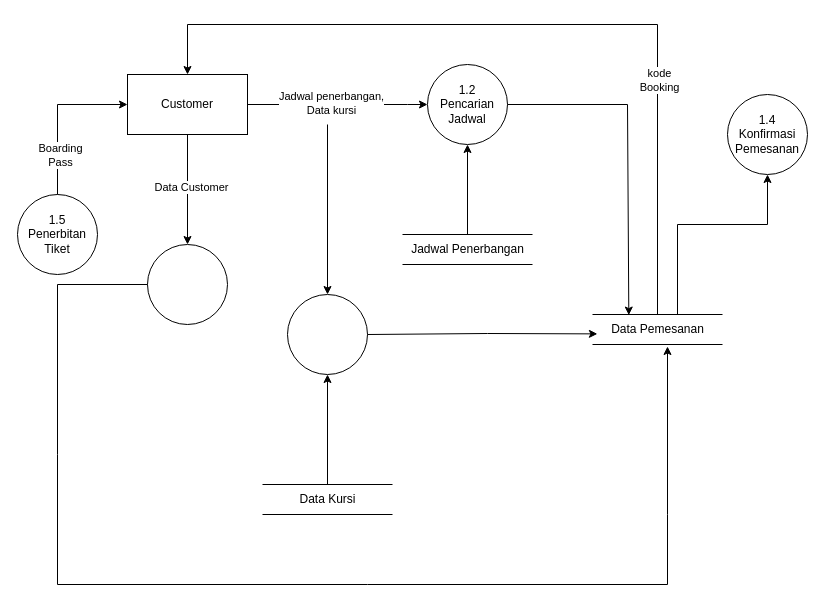
The diagram is 825 pixels wide and 610 high, and some of its shapes have lost their labels. Each missing label, with the box of its shape:
1.1 Input data customer: (146, 244, 228, 324)
1.3 Pencarian Kursi: (286, 294, 368, 374)
